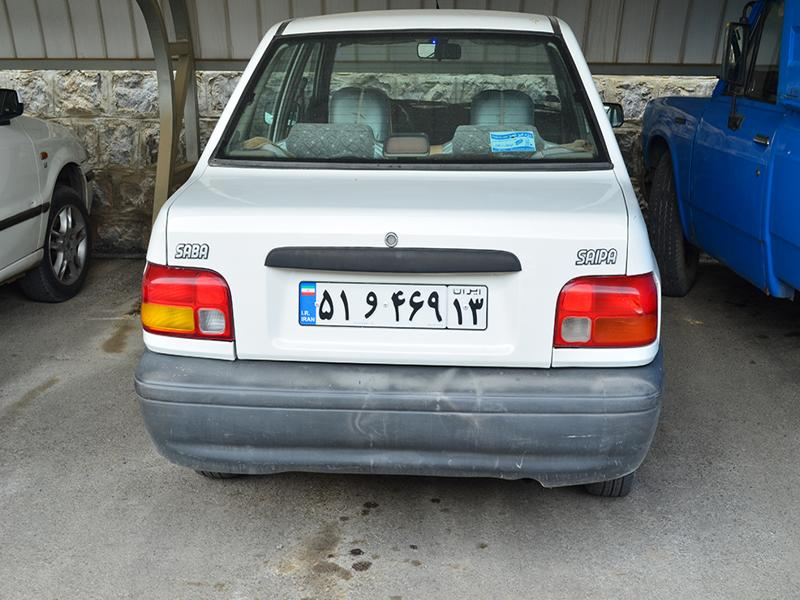Plate: (296, 275, 494, 338)
